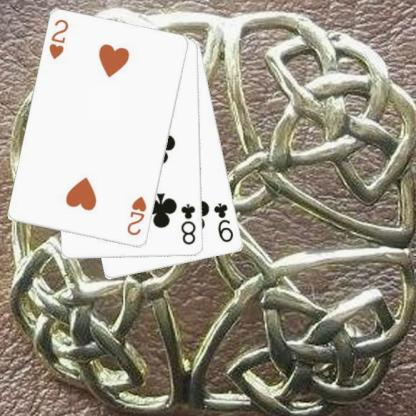2H: (46, 17, 70, 61), (124, 194, 148, 237)
8C: (178, 201, 197, 246)
9C: (211, 200, 236, 244)
